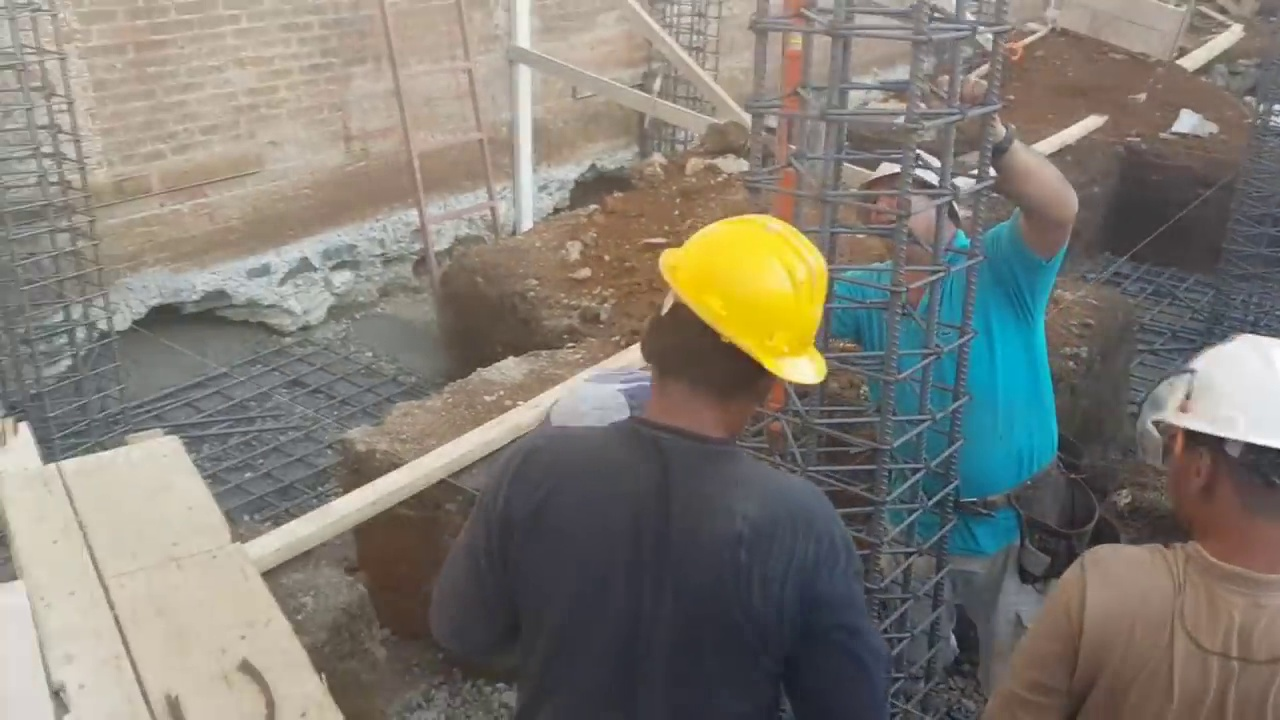helmet: (645, 203, 835, 386), (1150, 341, 1279, 468)
helmet-off: (859, 143, 966, 287)
helmet-on: (643, 206, 837, 443), (1152, 334, 1280, 588)
person: (404, 192, 860, 720), (842, 81, 1080, 720), (1016, 333, 1280, 720)
